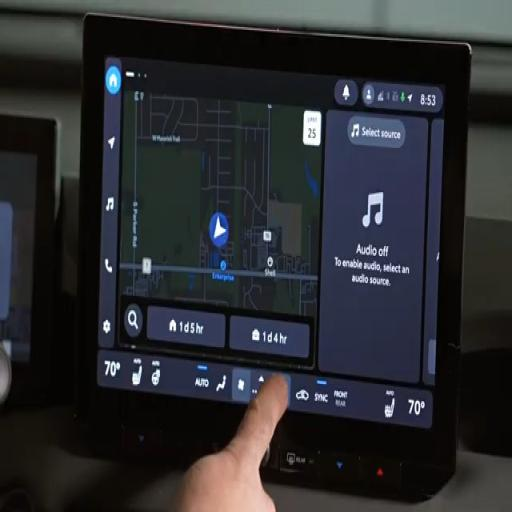windshield: (2, 0, 511, 42)
